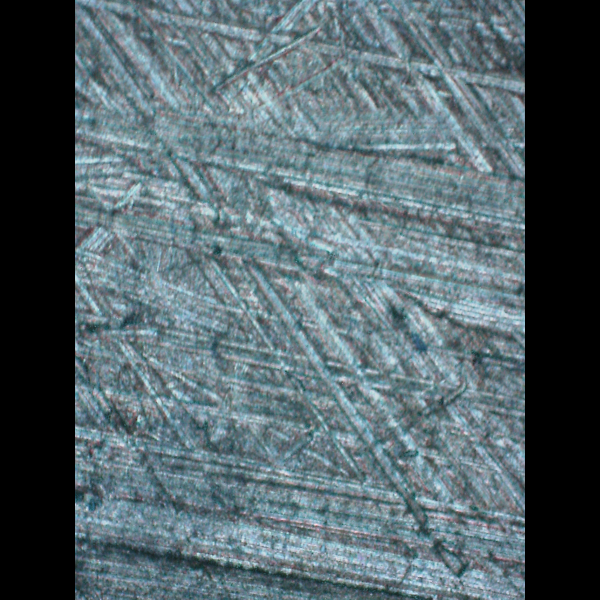d: (75, 74, 522, 340), (77, 424, 525, 600)
